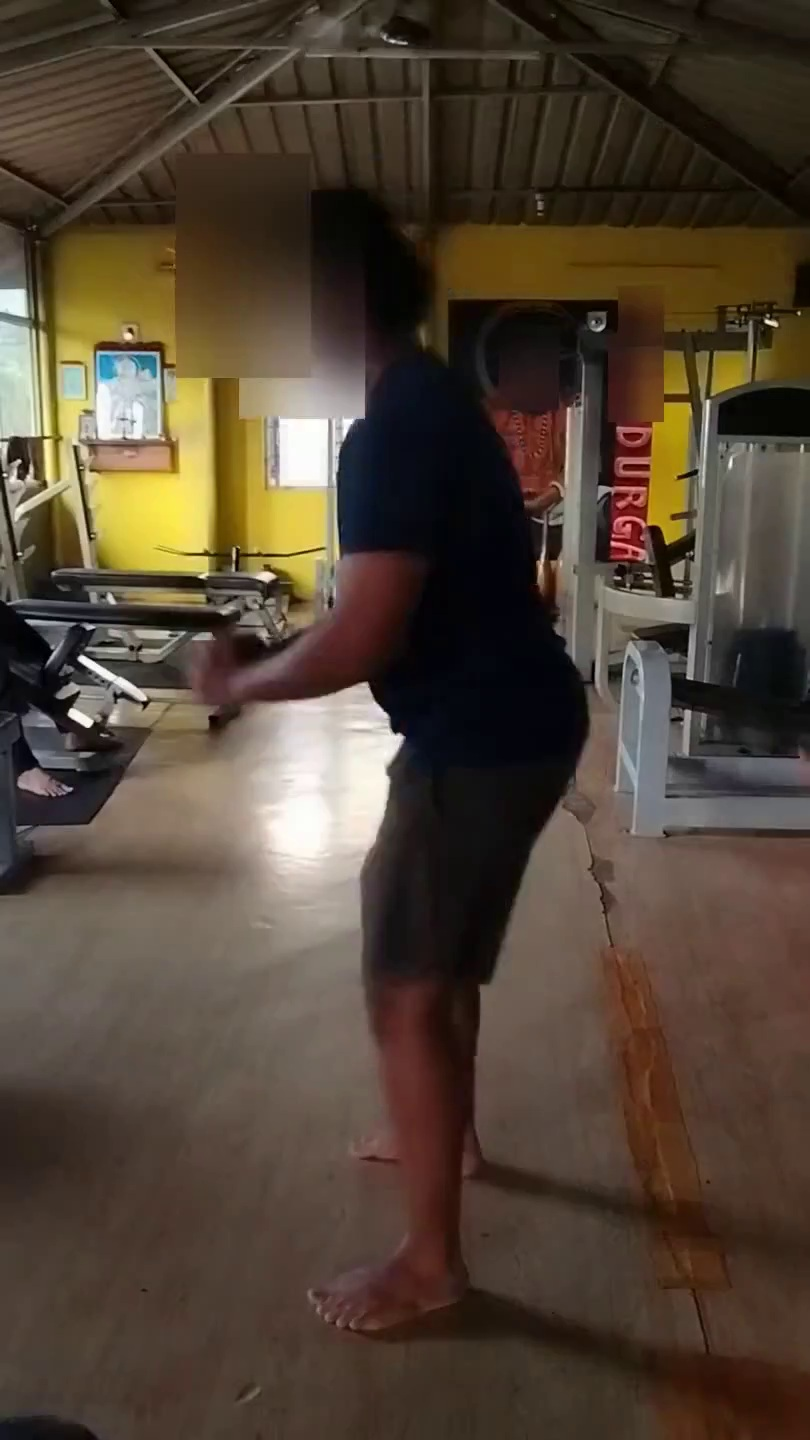squat: (109, 174, 607, 1391)
